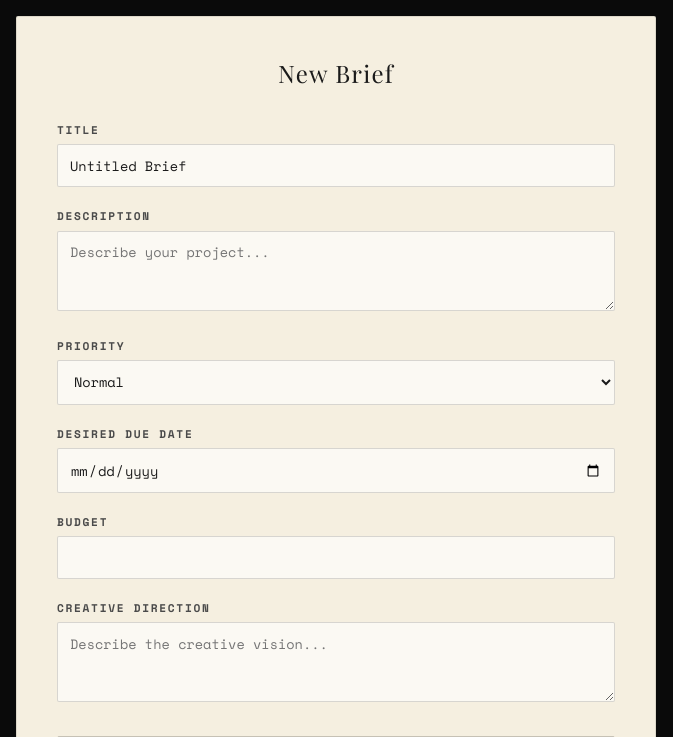
Test: NewBriefPage › shows "Save failed" after autosave error and does not break subsequent saves
# Type to trigger autosave
Type "Fail" into the field labelled "Title" at [336, 166], box x1=57 y1=144 x2=615 y2=187
Wait 2000 ms
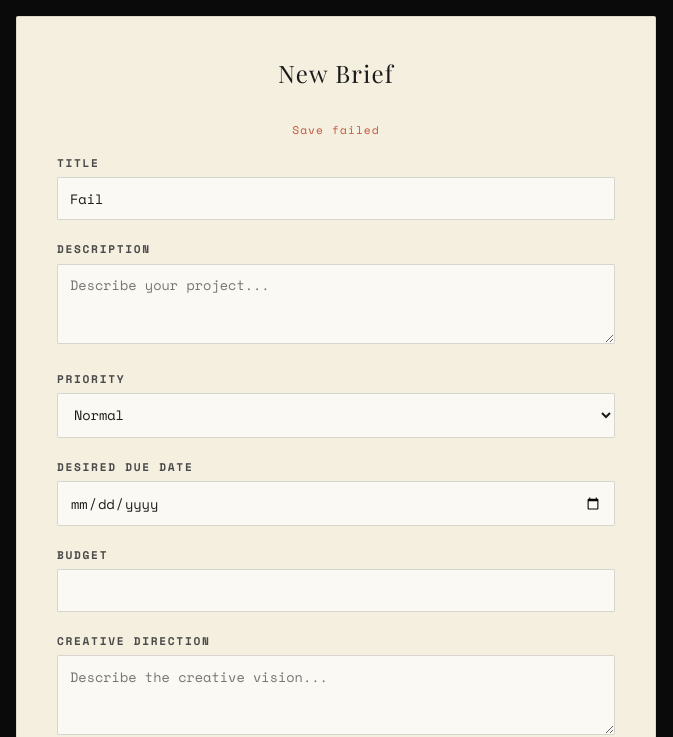
Check: the text "Save failed" is shown, box x1=292 y1=121 x2=380 y2=138
# Type again to trigger another autosave
Type "ed" into the field labelled "Title" at [336, 199], box x1=57 y1=177 x2=615 y2=220
Wait 2000 ms
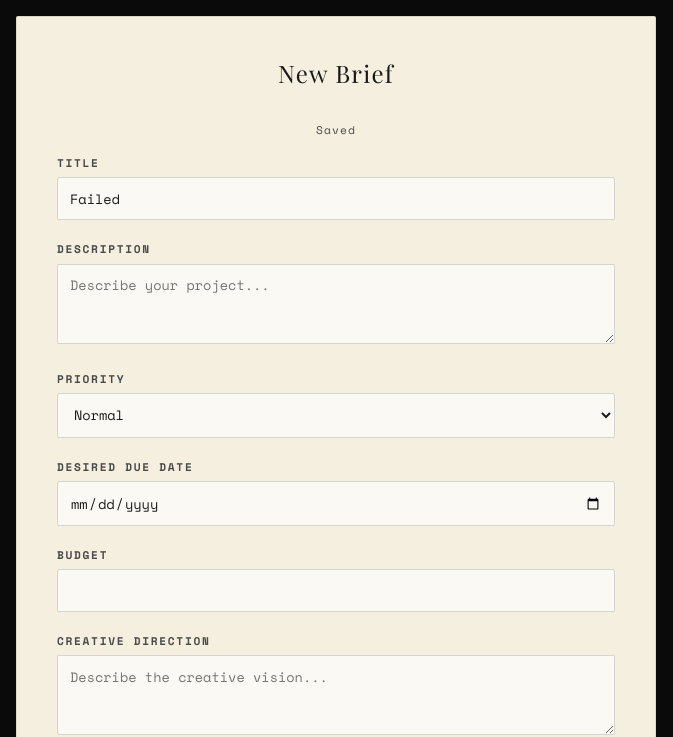
Check: the text "Saved" is shown, box x1=316 y1=121 x2=356 y2=138
